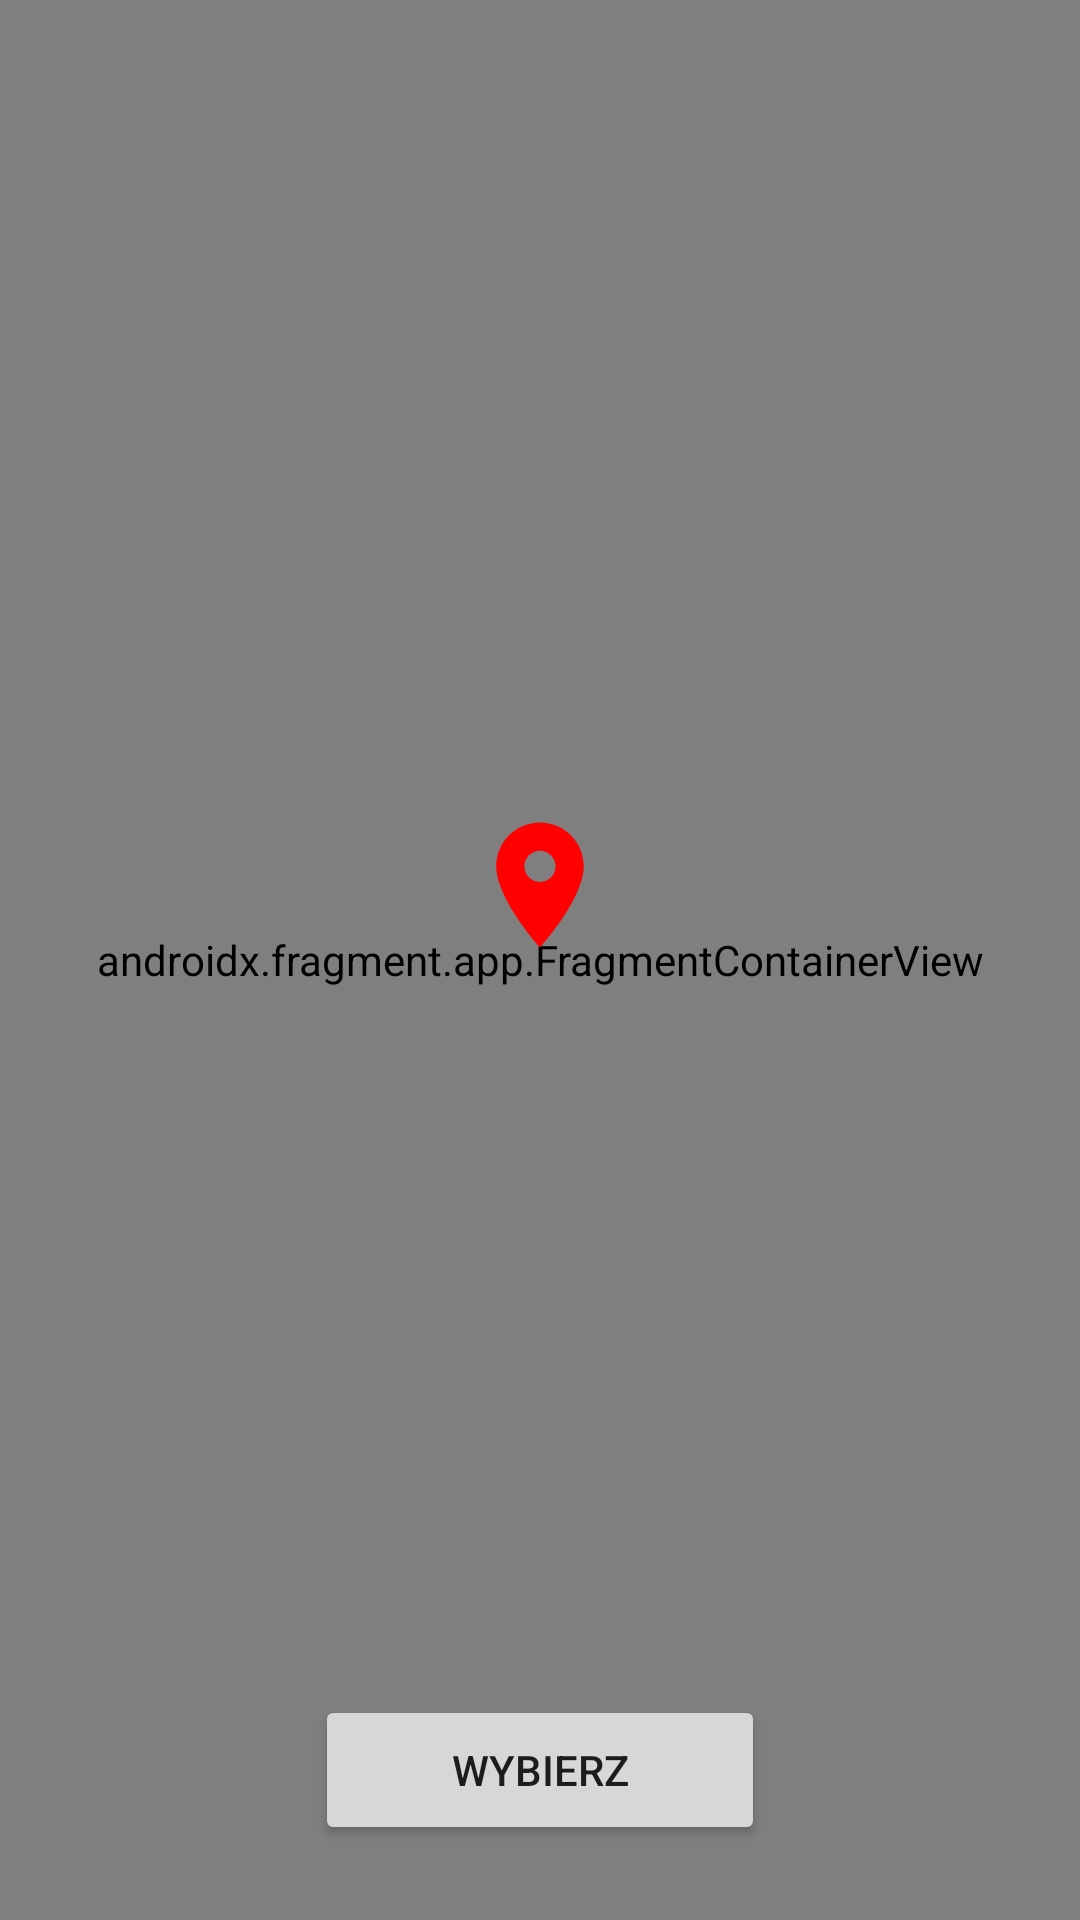

Point at icon controls on the screen. Image size 1080×1920, points as (x=x, y=y).
location on: (x=539, y=891)
